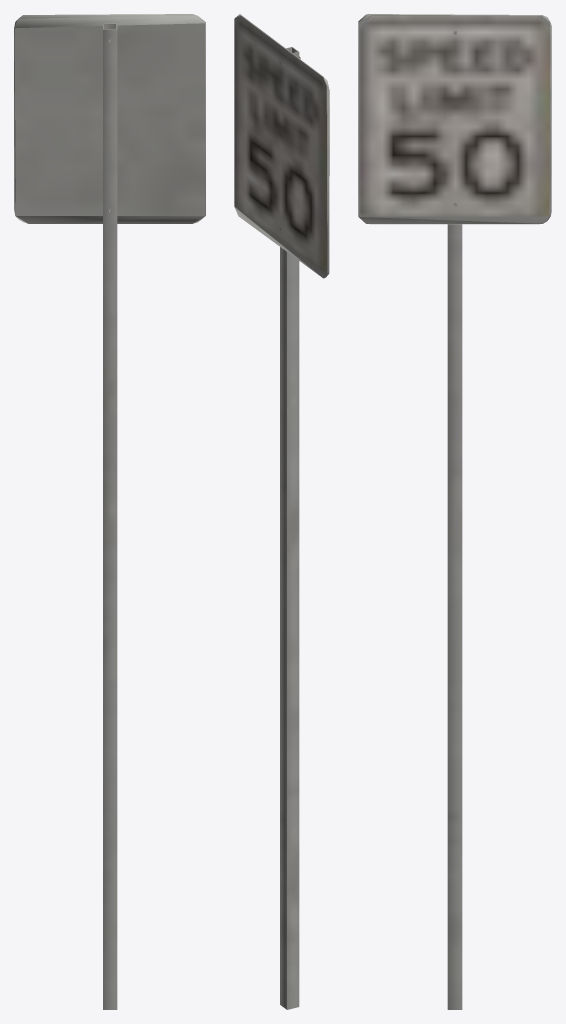
The model's file is sign-speed.lod1.glb.
The picture shows the model from 3 angles, left to right: view 1: azimuth 90°, elevation 25°; view 2: azimuth 210°, elevation 25°; view 3: azimuth 270°, elevation 25°; orthographic projection. The views are drawn at different scales.
Parts seen in each view (by area): view 1: speed_50_LOW_POLY_sign_0; view 2: speed_50_LOW_POLY_sign_0; view 3: speed_50_LOW_POLY_sign_0.
Boxes of the visible parts, left/top/right/bottom form: speed_50_LOW_POLY_sign_0: left=14, top=14, right=205, bottom=1009; speed_50_LOW_POLY_sign_0: left=234, top=14, right=329, bottom=1009; speed_50_LOW_POLY_sign_0: left=358, top=14, right=551, bottom=1009.
Size of the model in its own units: 0.0571 by 2.6 by 0.457.
Materials: 1 (1 with a texture image).
